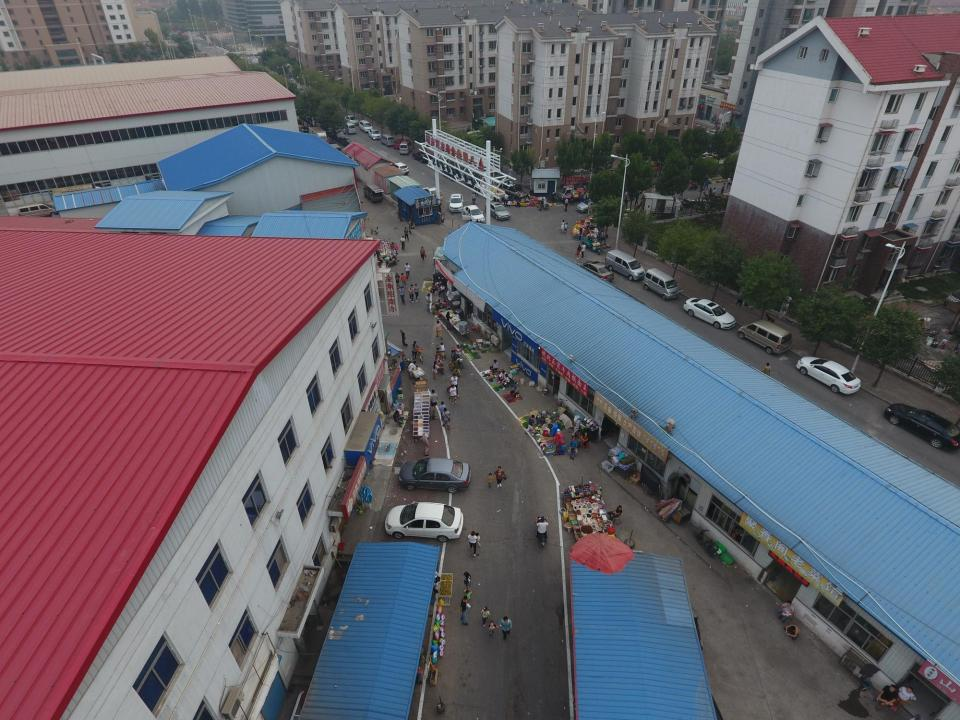car: (884, 404, 960, 450), (385, 500, 463, 542), (399, 457, 471, 493), (796, 357, 861, 394), (683, 298, 735, 328), (576, 260, 614, 283), (576, 197, 606, 213), (485, 202, 510, 220), (688, 150, 718, 164), (462, 204, 485, 222), (448, 194, 464, 212), (422, 187, 442, 200), (703, 130, 727, 140), (394, 138, 410, 150), (330, 129, 346, 139), (368, 128, 381, 140), (342, 137, 357, 147), (345, 115, 359, 125)
truck: (52, 184, 111, 214), (641, 193, 685, 220), (558, 185, 588, 204)
van: (738, 320, 792, 354), (605, 249, 645, 281), (642, 268, 678, 300), (17, 202, 58, 221), (363, 184, 384, 202), (388, 162, 409, 174), (412, 152, 432, 162), (380, 134, 394, 147), (359, 120, 373, 133), (399, 141, 411, 155), (342, 122, 356, 134)
